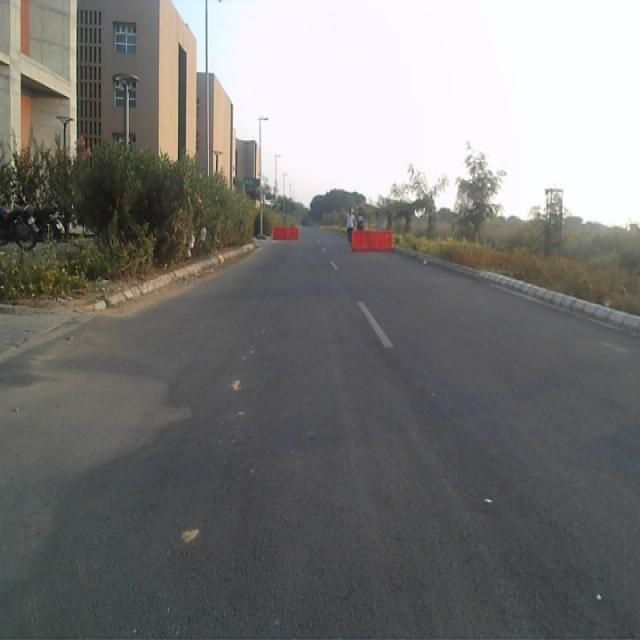lane: (0, 244, 558, 640)
